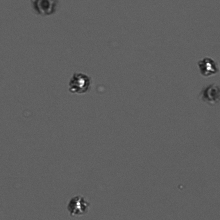Dead Cell: (33, 1, 57, 15), (203, 84, 219, 104)
Living Cell: (67, 72, 90, 94), (67, 195, 89, 215), (199, 56, 218, 76)
